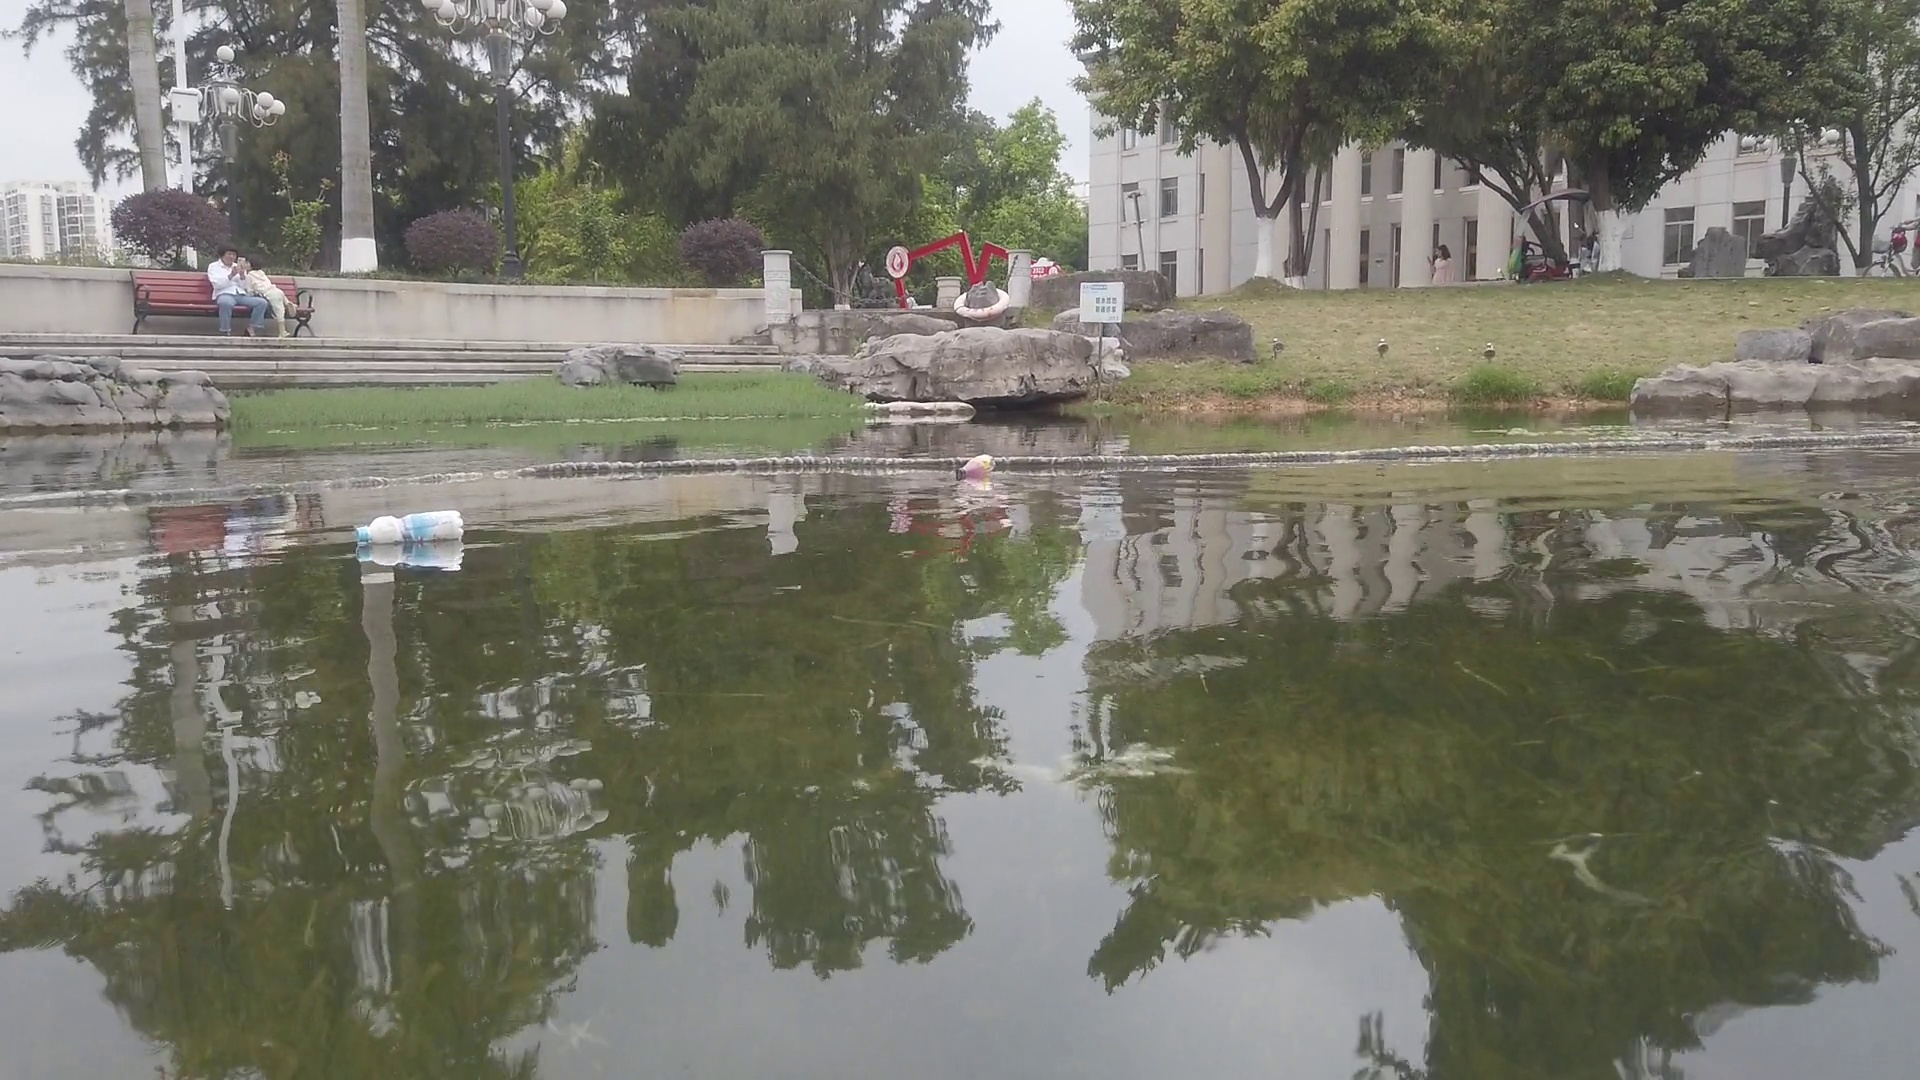bottle: (353, 512, 465, 549), (955, 454, 996, 485)
